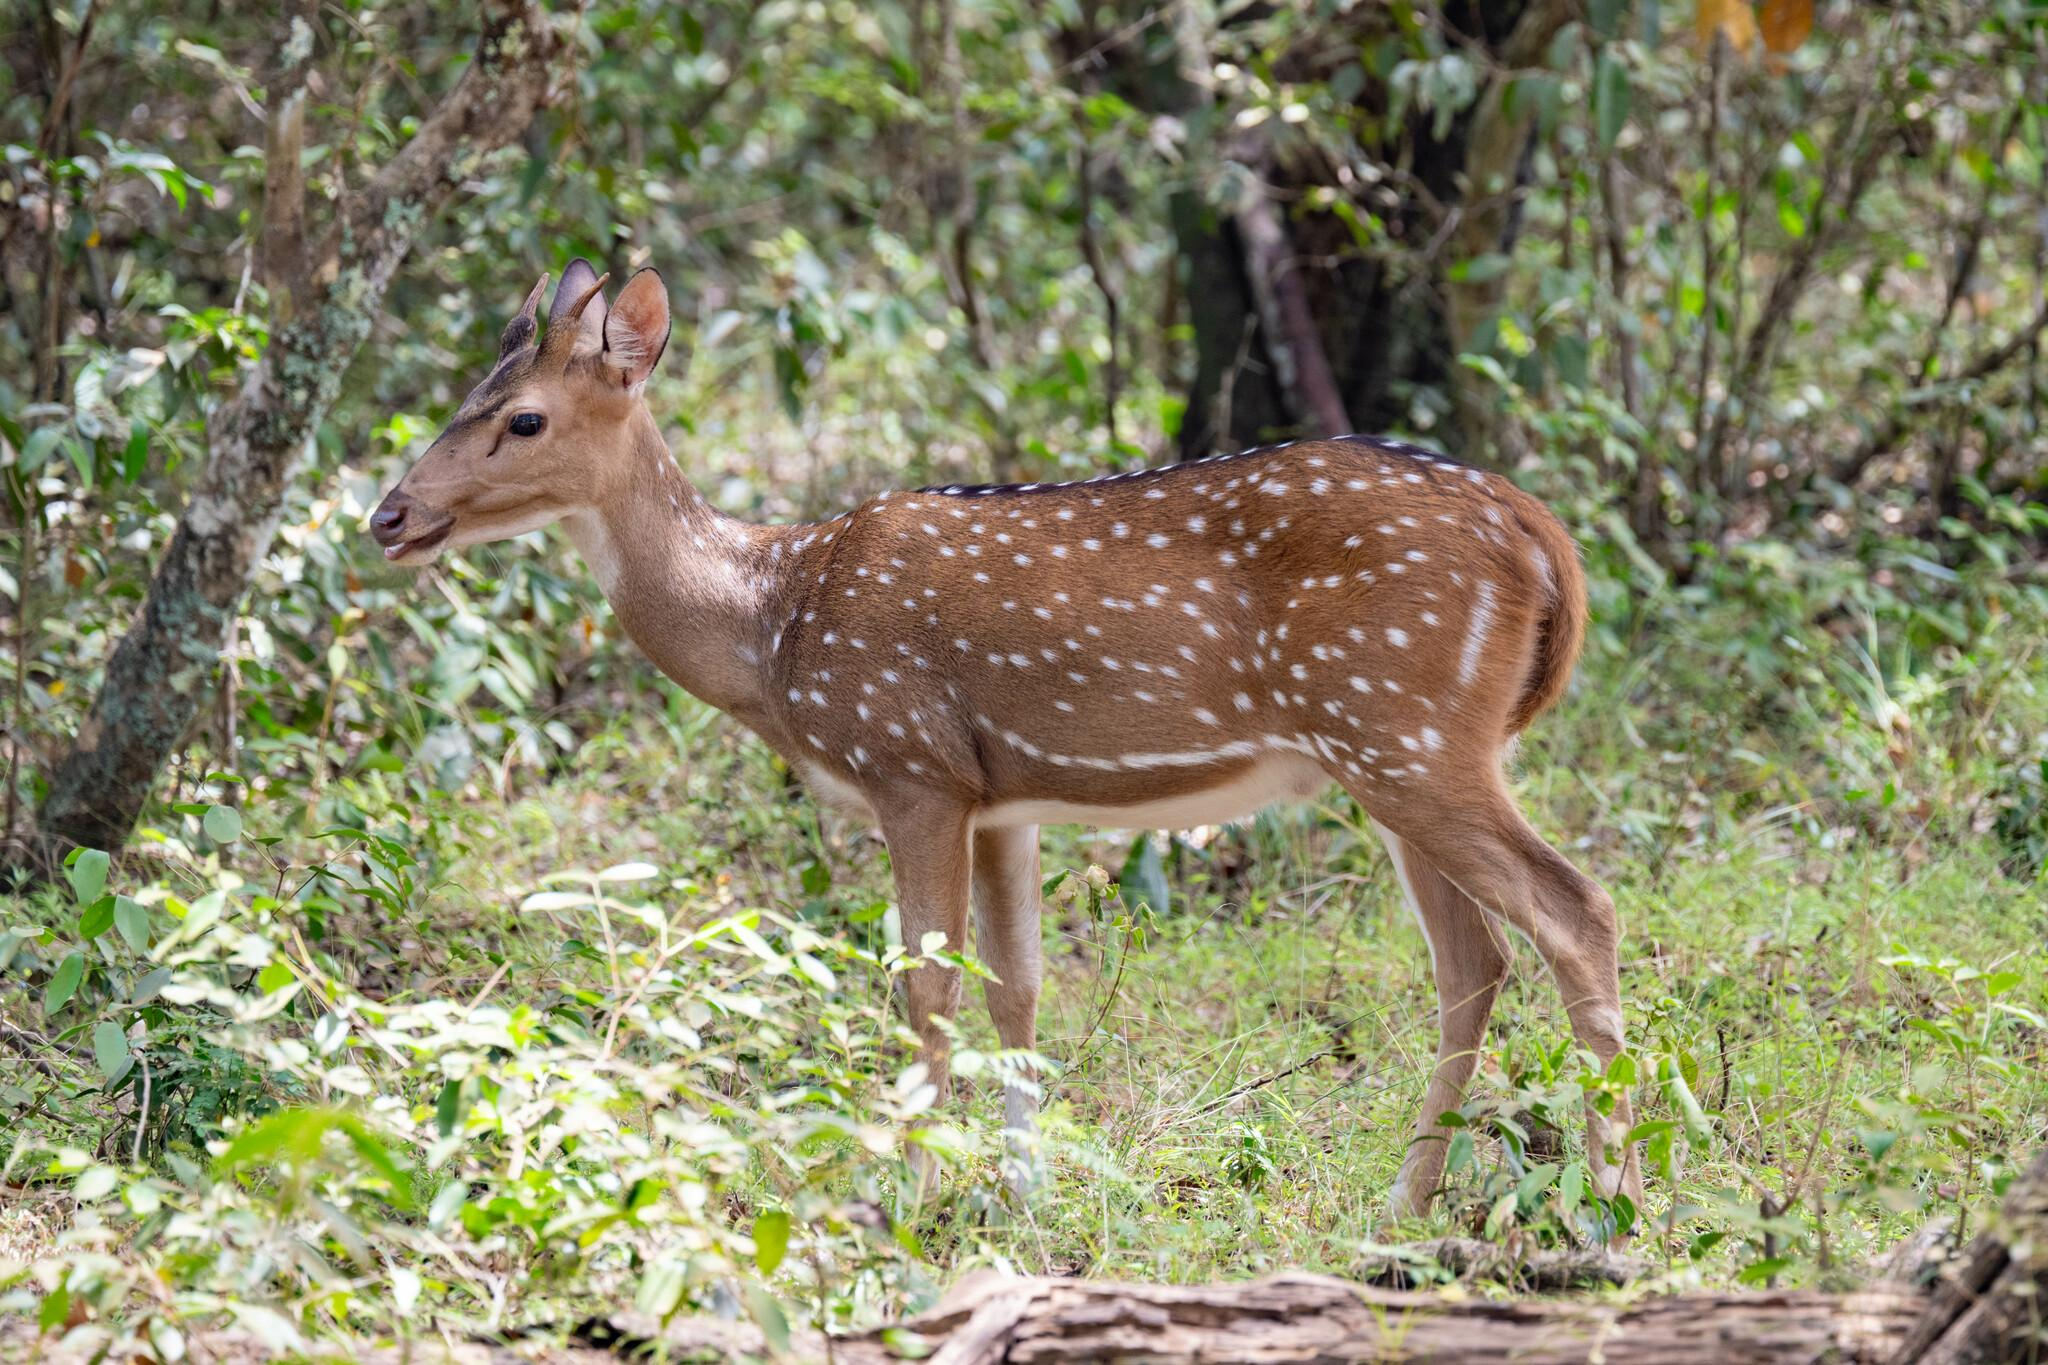Deer: (368, 261, 1623, 1213), (904, 961, 959, 1095)
